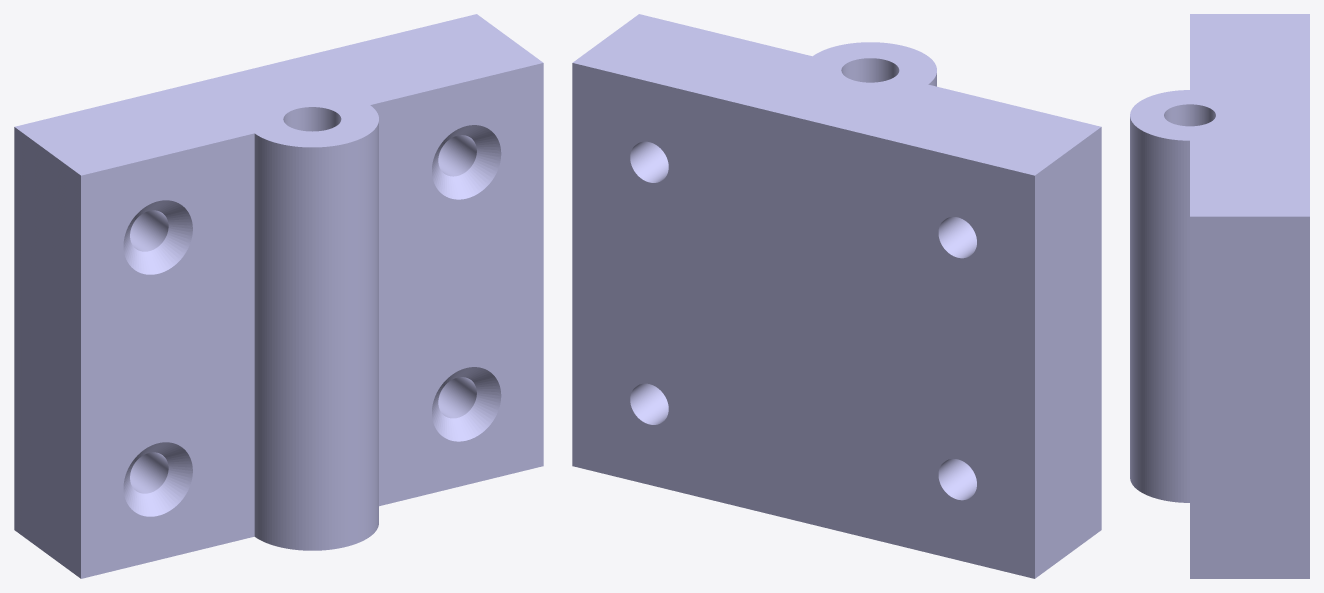
File: Support_Panneau_Solaire.dae
3 views of the same model, side by side, from view 1: azimuth 30°, elevation 25°; view 2: azimuth 150°, elevation 25°; view 3: azimuth 270°, elevation 25° (orthographic). The views are drawn at different scales.
Parts seen in each view (by area): view 1: node0; view 2: node0; view 3: node0.
Part boxes in pixels (box(x1,y1,x2,y2)): node0: box(14, 14, 543, 578); node0: box(572, 14, 1101, 578); node0: box(1130, 14, 1309, 578).
Size of the model in its own units: 0.06 by 0.0225 by 0.05.
